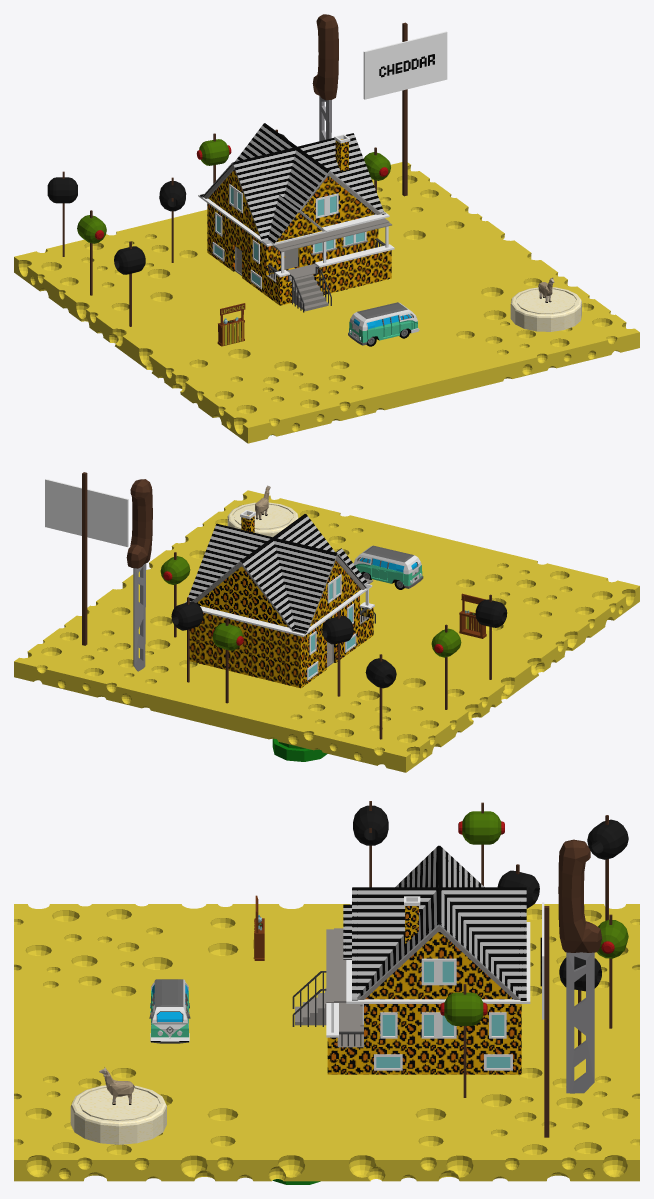
3 renders of one model, top to bottom at view 1: azimuth 30°, elevation 25°; view 2: azimuth 150°, elevation 25°; view 3: azimuth 270°, elevation 25°, orthographic. The views are drawn at different scales.
Parts seen in each view (by area): view 1: Cube.022, Cube.637, Cube.023, Cylinder.016, Cube.024, VEHICLES_VAN, Sphere.017, Sphere.016, OBJRANDOM_LEMONADE_STAND, Sphere.020, Sphere.018, Sphere.022 (+1 smaller); view 2: Cube.022, Cube.637, Cube.023, Cube.024, VEHICLES_VAN, Cylinder.016, Sphere.020, Sphere.016, Sphere.022, Sphere.017, Sphere.021, Sphere.018 (+3 smaller); view 3: Cube.022, Cube.637, Cube.024, Cylinder.016, VEHICLES_VAN, Cube.023, Sphere.019, Sphere.016, Sphere.018, Sphere.017, Sphere.022, Sphere.020 (+3 smaller).
Part boxes in pixels (<box>): Cube.022: <box>14,162,639,443</box>; Cube.637: <box>198,123,394,312</box>; Cube.023: <box>363,22,447,196</box>; Cylinder.016: <box>510,287,581,331</box>; Cube.024: <box>312,14,338,141</box>; VEHICLES_VAN: <box>348,302,419,346</box>; Sphere.017: <box>114,241,145,326</box>; Sphere.016: <box>47,171,77,256</box>; OBJRANDOM_LEMONADE_STAND: <box>217,303,245,346</box>; Sphere.020: <box>159,177,186,262</box>; Sphere.018: <box>77,210,106,295</box>; Sphere.022: <box>196,133,231,183</box>; Cube.022: <box>14,490,639,772</box>; Cube.637: <box>185,510,375,688</box>; Cube.023: <box>45,472,128,645</box>; Cube.024: <box>126,479,152,671</box>; VEHICLES_VAN: <box>353,545,423,589</box>; Cylinder.016: <box>227,502,298,537</box>; Sphere.020: <box>322,611,353,696</box>; Sphere.016: <box>365,654,396,739</box>; Sphere.022: <box>212,618,243,703</box>; Sphere.017: <box>475,594,507,679</box>; Sphere.021: <box>171,597,203,682</box>; Sphere.018: <box>431,624,461,709</box>; Cube.022: <box>14,904,639,1181</box>; Cube.637: <box>292,845,530,1074</box>; Cube.024: <box>558,839,602,1093</box>; Cylinder.016: <box>70,1085,166,1144</box>; VEHICLES_VAN: <box>149,979,190,1043</box>; Cube.023: <box>540,902,549,1137</box>; Sphere.019: <box>440,984,487,1097</box>; Sphere.016: <box>587,815,628,920</box>; Sphere.018: <box>458,802,504,885</box>; Sphere.017: <box>353,801,388,887</box>; Sphere.022: <box>597,914,628,1028</box>; Sphere.020: <box>497,864,539,908</box>.
Size of the model in its own units: 3917 by 2590 by 4000.
Materials: 39 (4 with a texture image).
